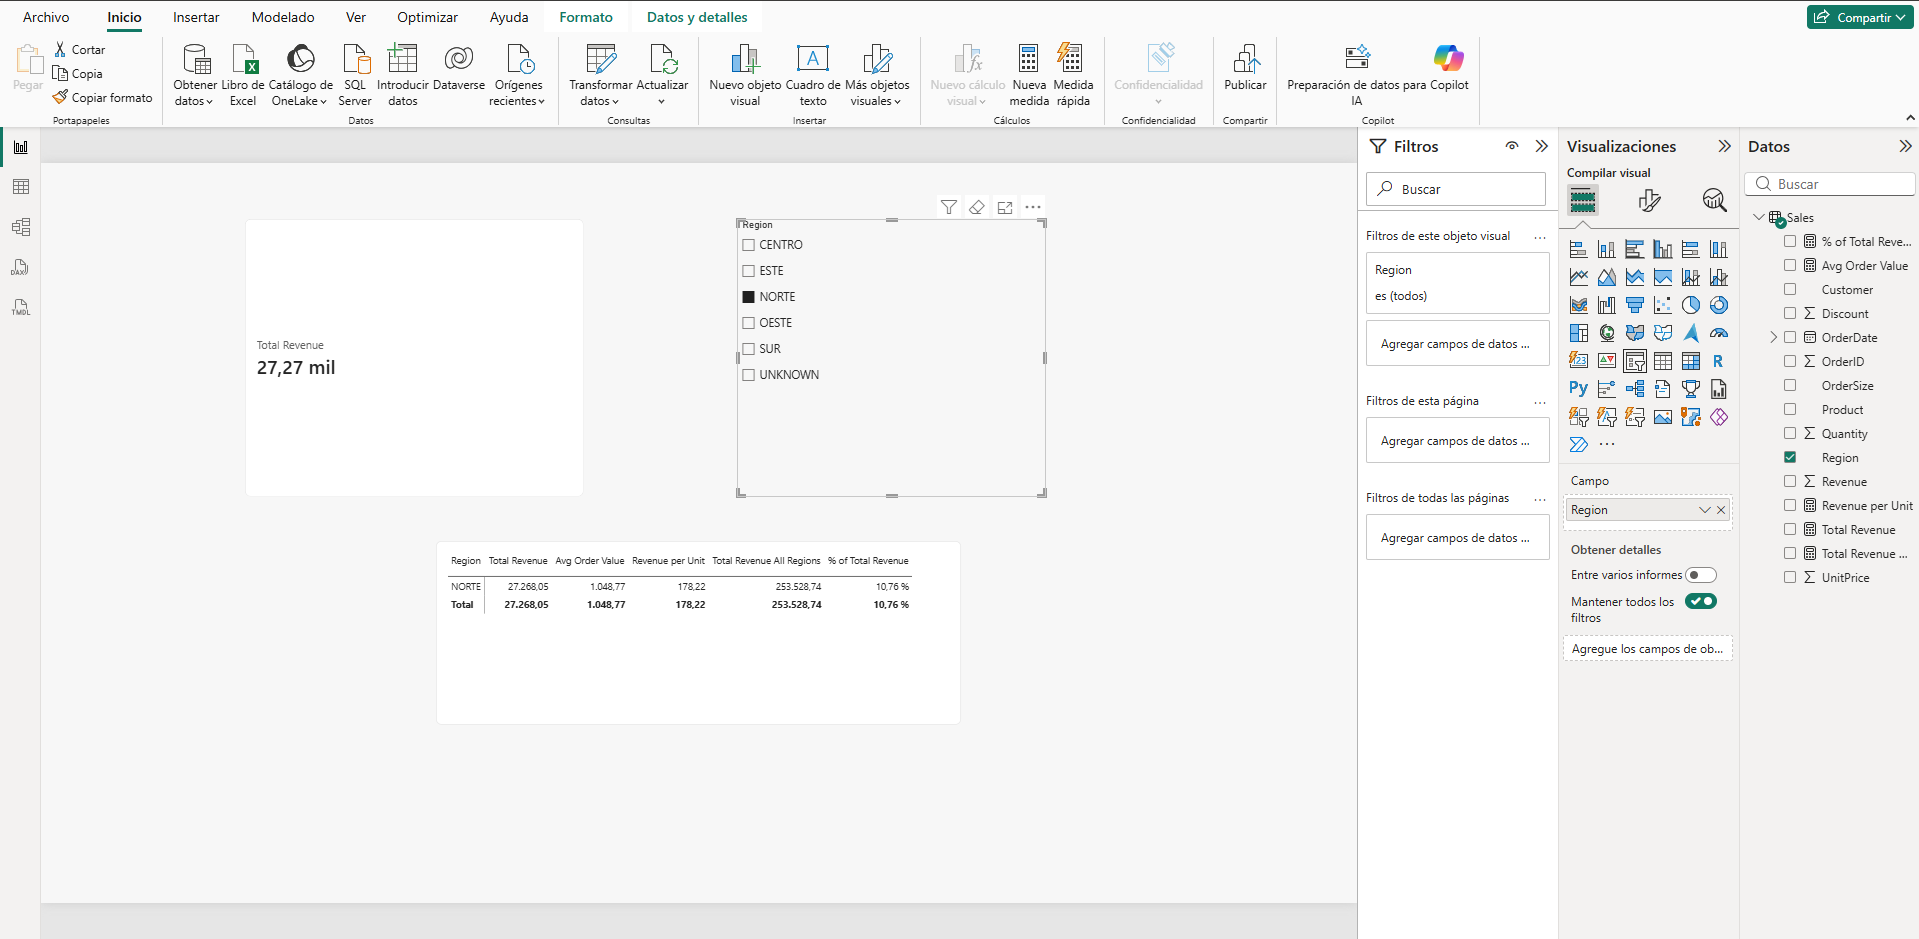

Layout of this report page (visuals, bound fields, positions):
{"tool":"powerbi","page":{"name":"Página 1","canvas":[1920,1080],"ordinal":0},"visuals":[{"type":"cardVisual","fields":{"Data":["Sales.Total Revenue"]},"box":[297.6,81.7,494.6,405.6],"z":0},{"type":"slicer","fields":{"Values":["Sales.Region"]},"box":[1015.4,81.7,450.8,405.6],"z":1000},{"type":"pivotTable","fields":{"Rows":["Sales.Region"],"Values":["Sales.Total Revenue","Sales.Avg Order Value","Sales.Revenue per Unit","Sales.Total Revenue All Regions","Sales.% of Total Revenue"]},"box":[576.3,551.5,766,268.4],"z":2000}]}

Visuals, with their boxes on the page's 1920x1080 design canvas (x1, y1, x2, y2). These are canvas units, not pixel positions in the 1919x939 screenshot, which may show the page scaled, cropped or inside an application window:
cardVisual - Sales.Total Revenue: [left=298, top=82, right=792, bottom=487]
slicer - Sales.Region: [left=1015, top=82, right=1466, bottom=487]
pivotTable - Sales.Region x Sales.Total Revenue: [left=576, top=552, right=1342, bottom=820]
